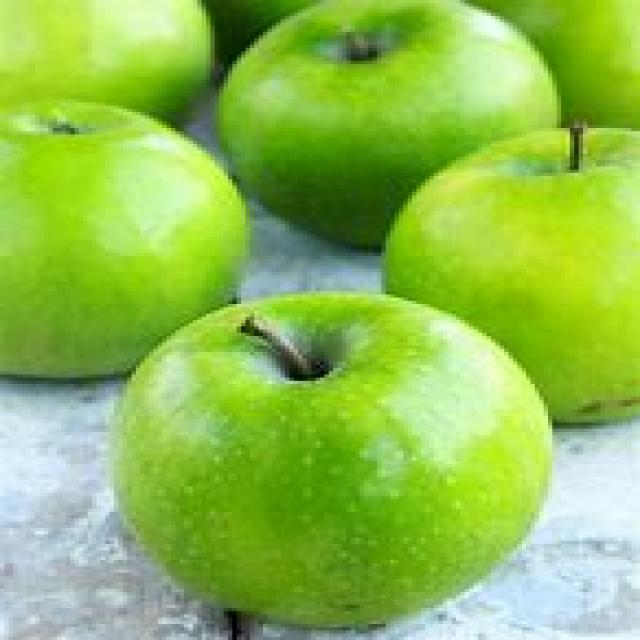Apple: (93, 286, 557, 624), (0, 100, 244, 316), (397, 122, 640, 309), (204, 0, 561, 118)
